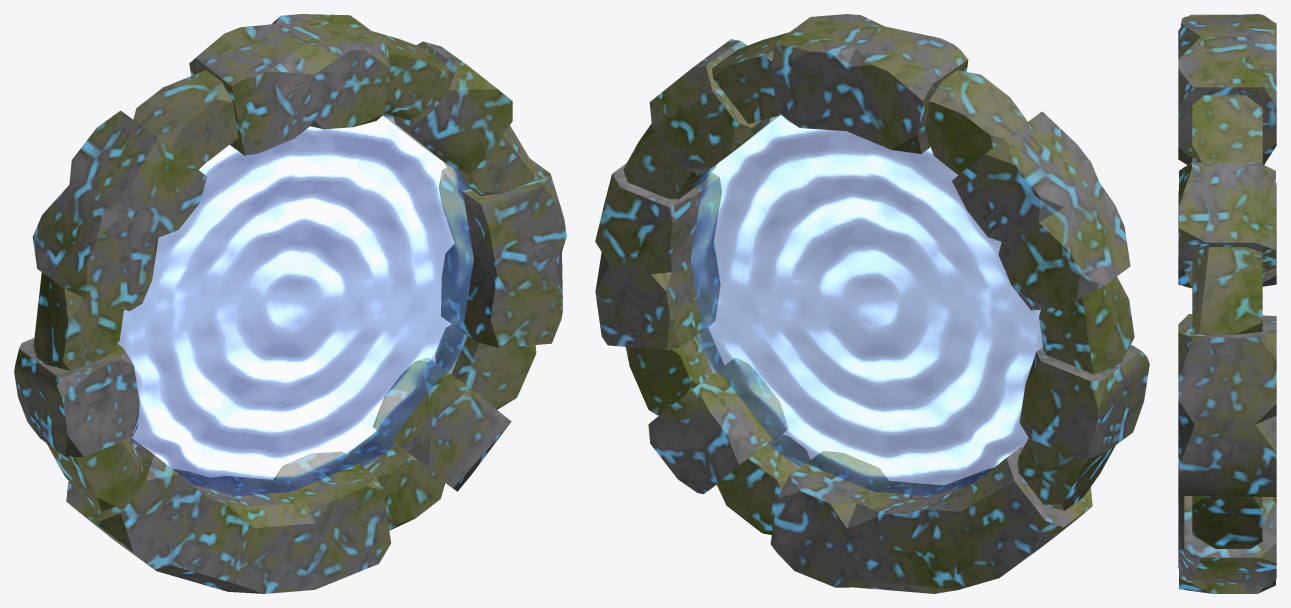
File: magic_portal.glb
3 renders of one model, left to right at view 1: azimuth 30°, elevation 25°; view 2: azimuth 150°, elevation 25°; view 3: azimuth 270°, elevation 25°, orthographic.
Parts seen in each view (by area): view 1: BrickLarge_low, PortalSurface_low, BrickSmall_low; view 2: BrickLarge_low, PortalSurface_low, BrickSmall_low; view 3: BrickLarge_low, BrickSmall_low.
Part boxes in pixels (bbox=[...]): BrickLarge_low: bbox=[14, 14, 566, 593]; PortalSurface_low: bbox=[117, 113, 473, 496]; BrickSmall_low: bbox=[33, 31, 539, 530]; BrickLarge_low: bbox=[595, 14, 1149, 593]; PortalSurface_low: bbox=[690, 115, 1042, 496]; BrickSmall_low: bbox=[623, 32, 1134, 534]; BrickLarge_low: bbox=[1178, 14, 1276, 593]; BrickSmall_low: bbox=[1192, 95, 1262, 548].
Size of the model in its own units: 2.66 by 2.68 by 0.4499.
Materials: 3 (3 with a texture image).
